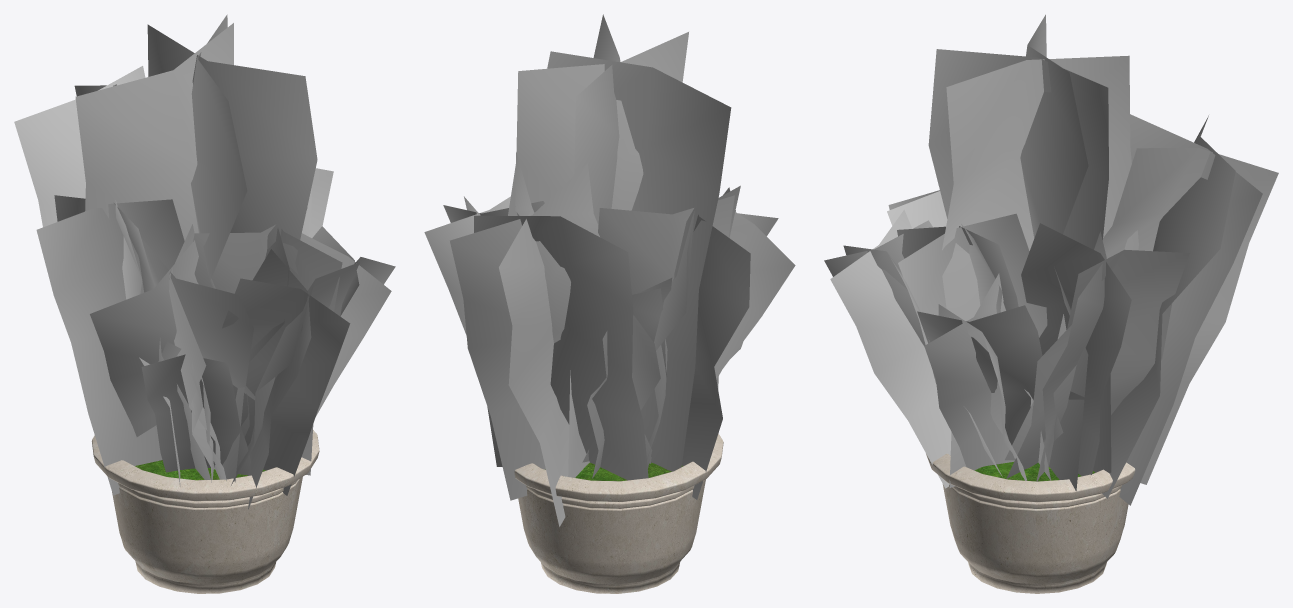
File: chaucay_8.fbx
3 views of the same model, side by side, from view 1: azimuth 30°, elevation 25°; view 2: azimuth 150°, elevation 25°; view 3: azimuth 270°, elevation 25° (orthographic).
Visible parts, largest first — view 1: chaucay_H; view 2: chaucay_H; view 3: chaucay_H.
Boxes of the visible parts, bbox=[...] form: chaucay_H: bbox=[14, 14, 395, 593]; chaucay_H: bbox=[424, 14, 795, 593]; chaucay_H: bbox=[824, 14, 1278, 593].
Size of the model in its own units: 64.5 by 98.52 by 79.08.
